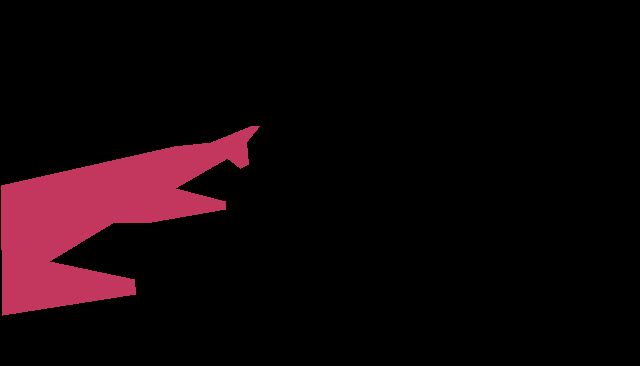Airplane: (1, 126, 259, 316)
